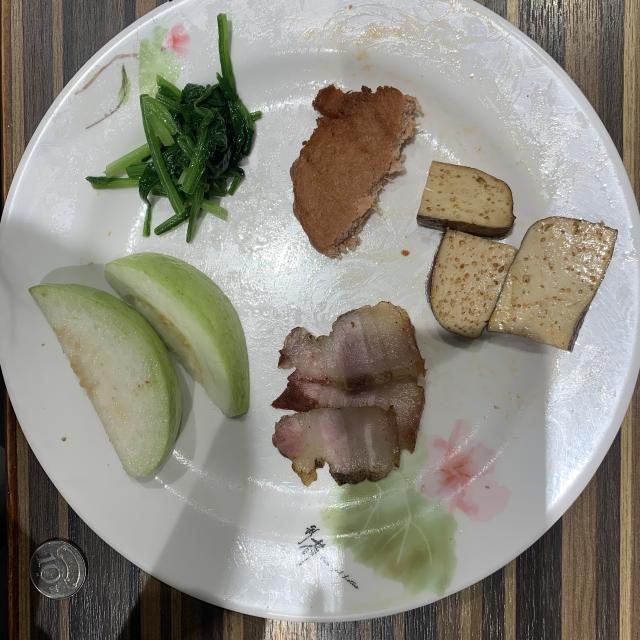Spam: (290, 85, 420, 258)
coin: (30, 540, 86, 599)
firm tofu: (418, 161, 618, 350)
grilled pork: (272, 301, 425, 485)
guava -sliced-: (29, 252, 249, 476)
mustard greens: (88, 14, 261, 242)
